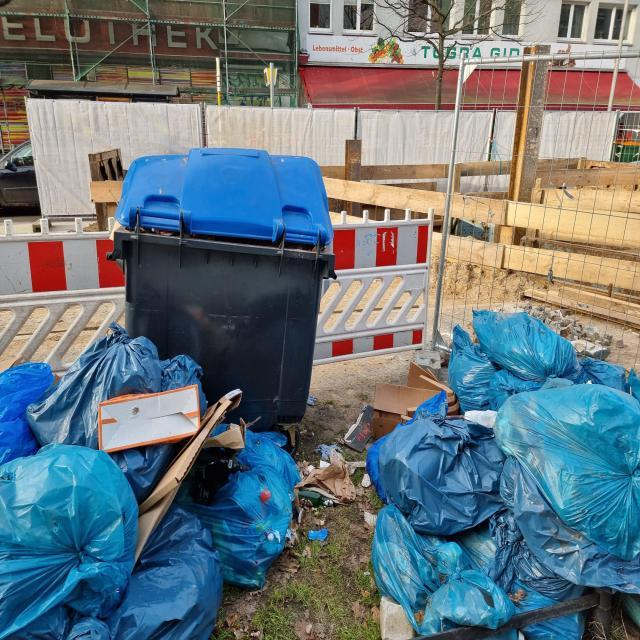garbage: (0, 324, 304, 639), (372, 294, 640, 640)
